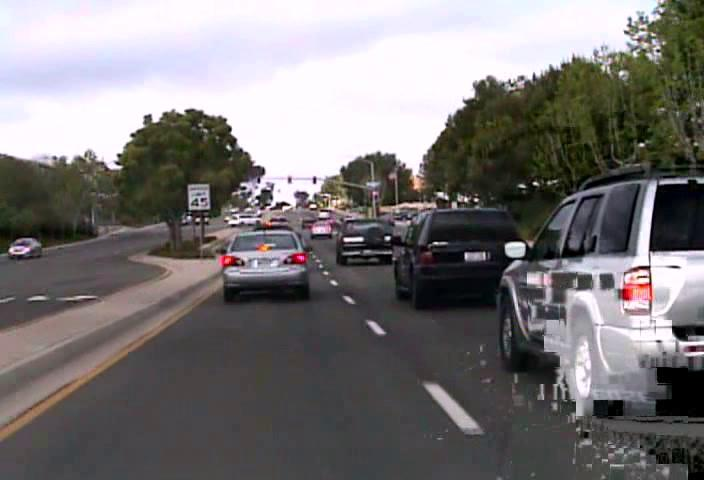speedLimit45: (187, 183, 211, 210)
